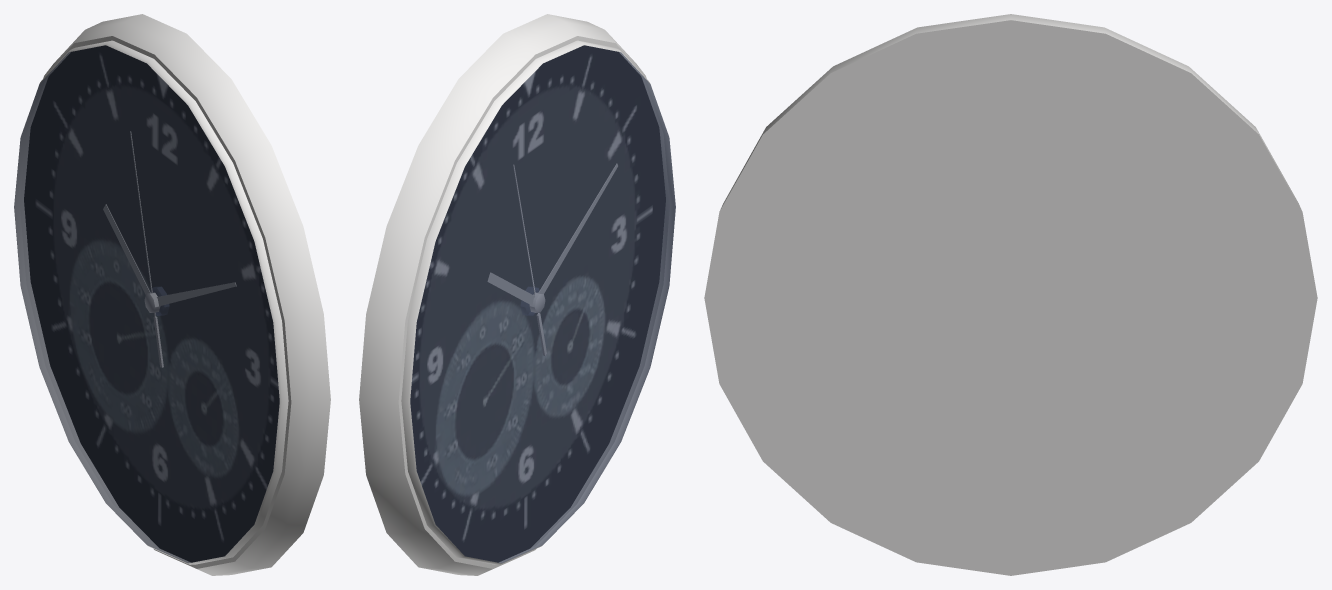
The model's file is DGClock.FBX.
The picture shows the model from 3 angles, left to right: view 1: azimuth 30°, elevation 25°; view 2: azimuth 150°, elevation 25°; view 3: azimuth 270°, elevation 25°; orthographic projection. The views are drawn at different scales.
Parts seen in each view (by area): view 1: DGClock; view 2: DGClock; view 3: DGClock.
Boxes of the visible parts, bbox=[...] form: DGClock: bbox=[14, 14, 330, 575]; DGClock: bbox=[359, 14, 675, 575]; DGClock: bbox=[704, 14, 1317, 575].
Size of the model in its own units: 2.46 by 30.5 by 30.5.
